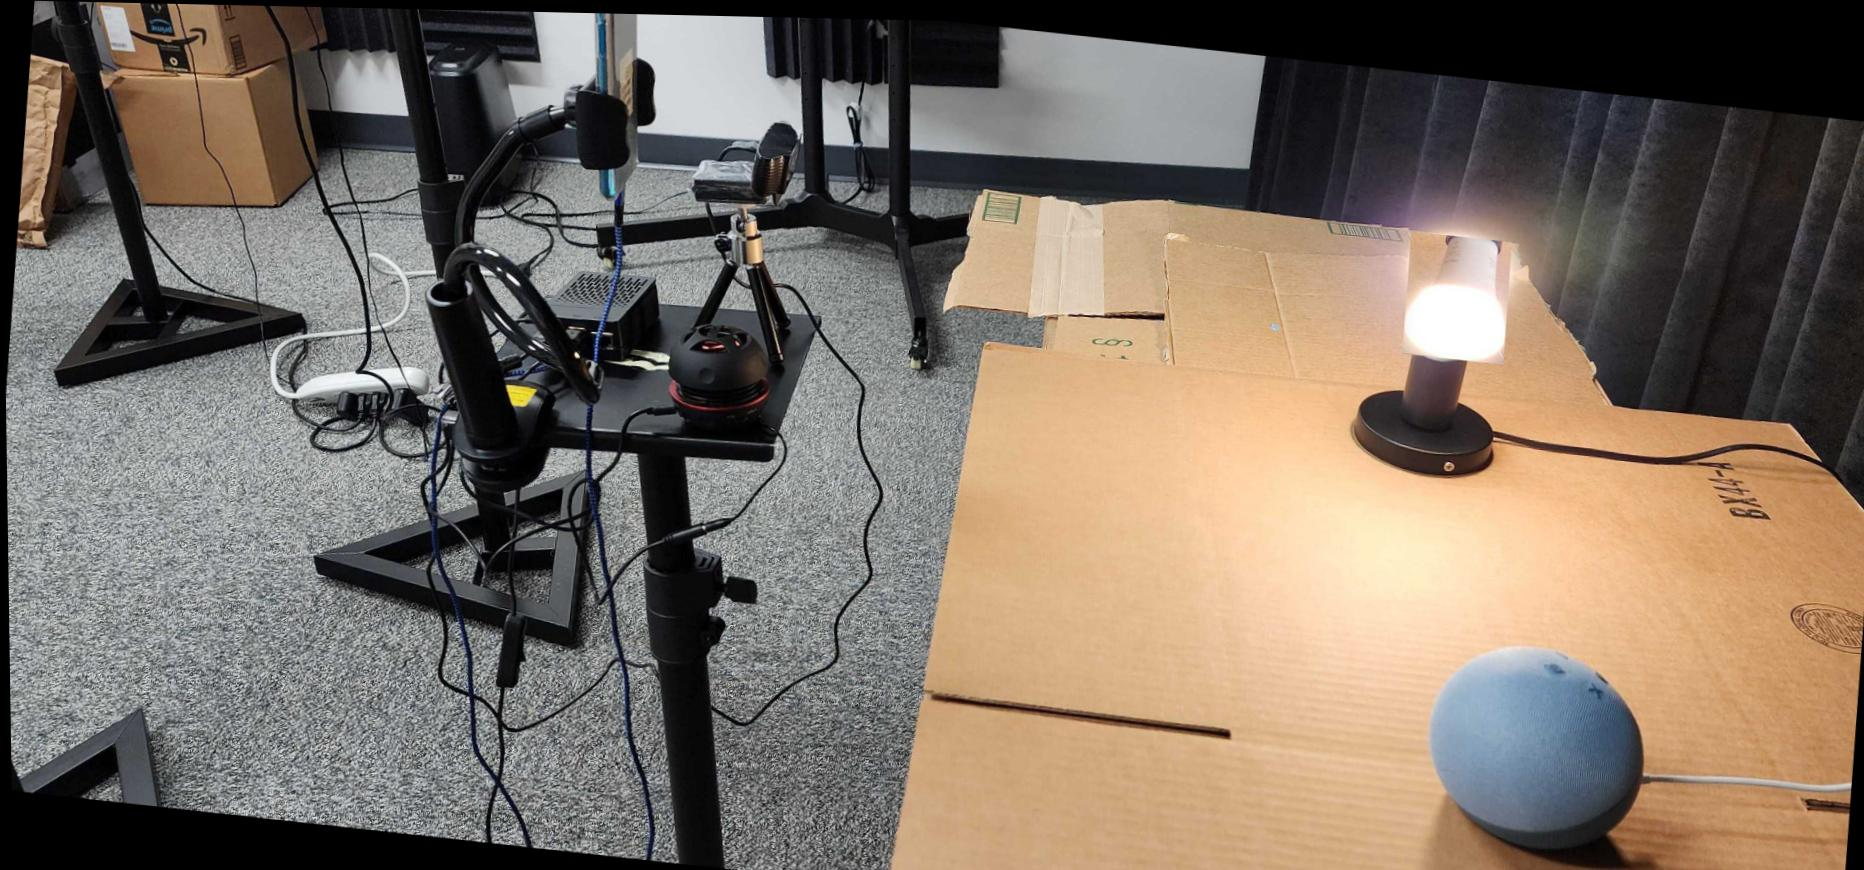TubeLight: (1399, 223, 1513, 357)
